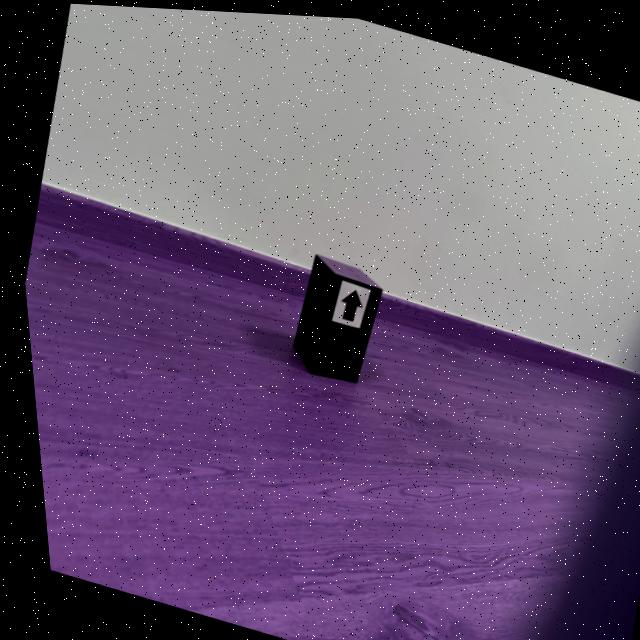UP: (336, 286, 357, 317)
